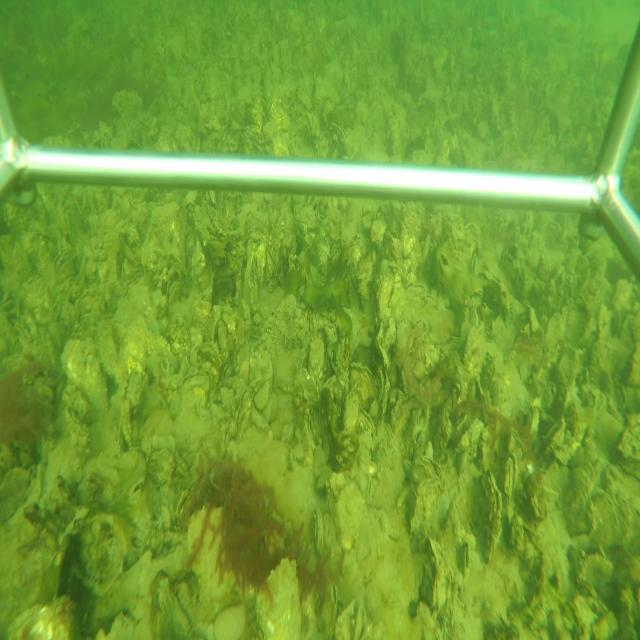Oyster-Closed: (175, 467, 209, 525), (374, 336, 391, 417), (504, 451, 518, 499), (313, 506, 324, 558)
Oyster-Indeterminate: (256, 558, 302, 640), (479, 467, 502, 566), (589, 488, 621, 540), (308, 332, 328, 381)
